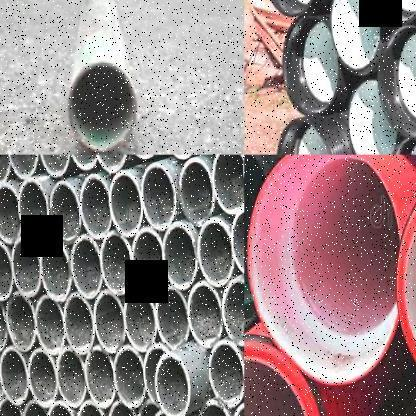pipe: (245, 154, 400, 386), (67, 59, 136, 153), (282, 16, 338, 114), (377, 24, 416, 136), (346, 79, 396, 155), (330, 0, 380, 74), (178, 157, 216, 227), (197, 218, 234, 286), (208, 340, 244, 408), (188, 280, 223, 348), (162, 221, 196, 290), (142, 163, 176, 231), (155, 353, 191, 416), (110, 170, 143, 236), (132, 228, 165, 294), (156, 285, 190, 349), (124, 287, 157, 352), (275, 118, 334, 154), (80, 174, 112, 240), (94, 290, 126, 354), (101, 232, 133, 295), (18, 178, 50, 241), (50, 181, 82, 244), (40, 239, 72, 301), (114, 345, 145, 409), (85, 346, 116, 408), (212, 154, 244, 214), (35, 295, 66, 356), (72, 235, 102, 298), (11, 236, 41, 298), (64, 292, 94, 354), (143, 344, 171, 408), (6, 292, 36, 351), (57, 347, 86, 408), (28, 348, 57, 408), (0, 346, 28, 405), (222, 278, 244, 346), (0, 183, 22, 243), (361, 0, 416, 22), (232, 206, 244, 276), (262, 0, 320, 14), (0, 240, 13, 301), (96, 154, 130, 176), (40, 155, 70, 178), (9, 155, 38, 178), (197, 400, 234, 416), (73, 154, 99, 172), (77, 401, 108, 416), (0, 398, 25, 416), (108, 401, 138, 416), (46, 402, 77, 416), (23, 400, 50, 416), (136, 399, 159, 416), (0, 294, 6, 352), (0, 154, 10, 186), (150, 409, 186, 416)
